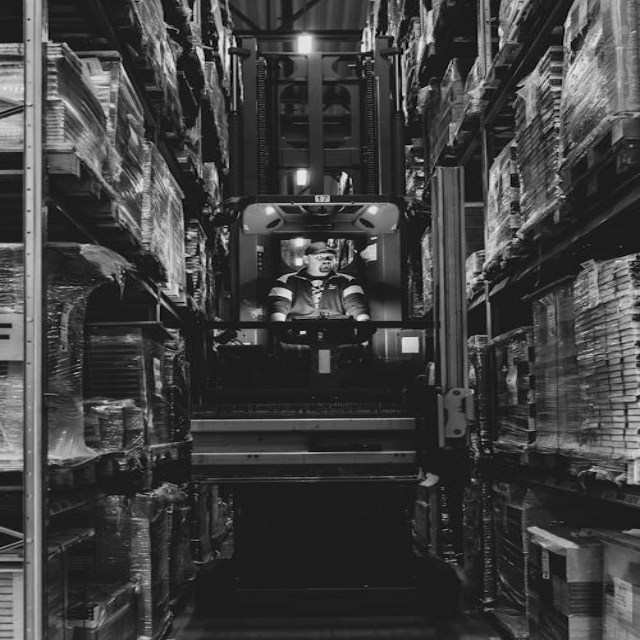Sin_gafas: (310, 255, 337, 261)
Sin_mascara: (319, 266, 332, 272)
